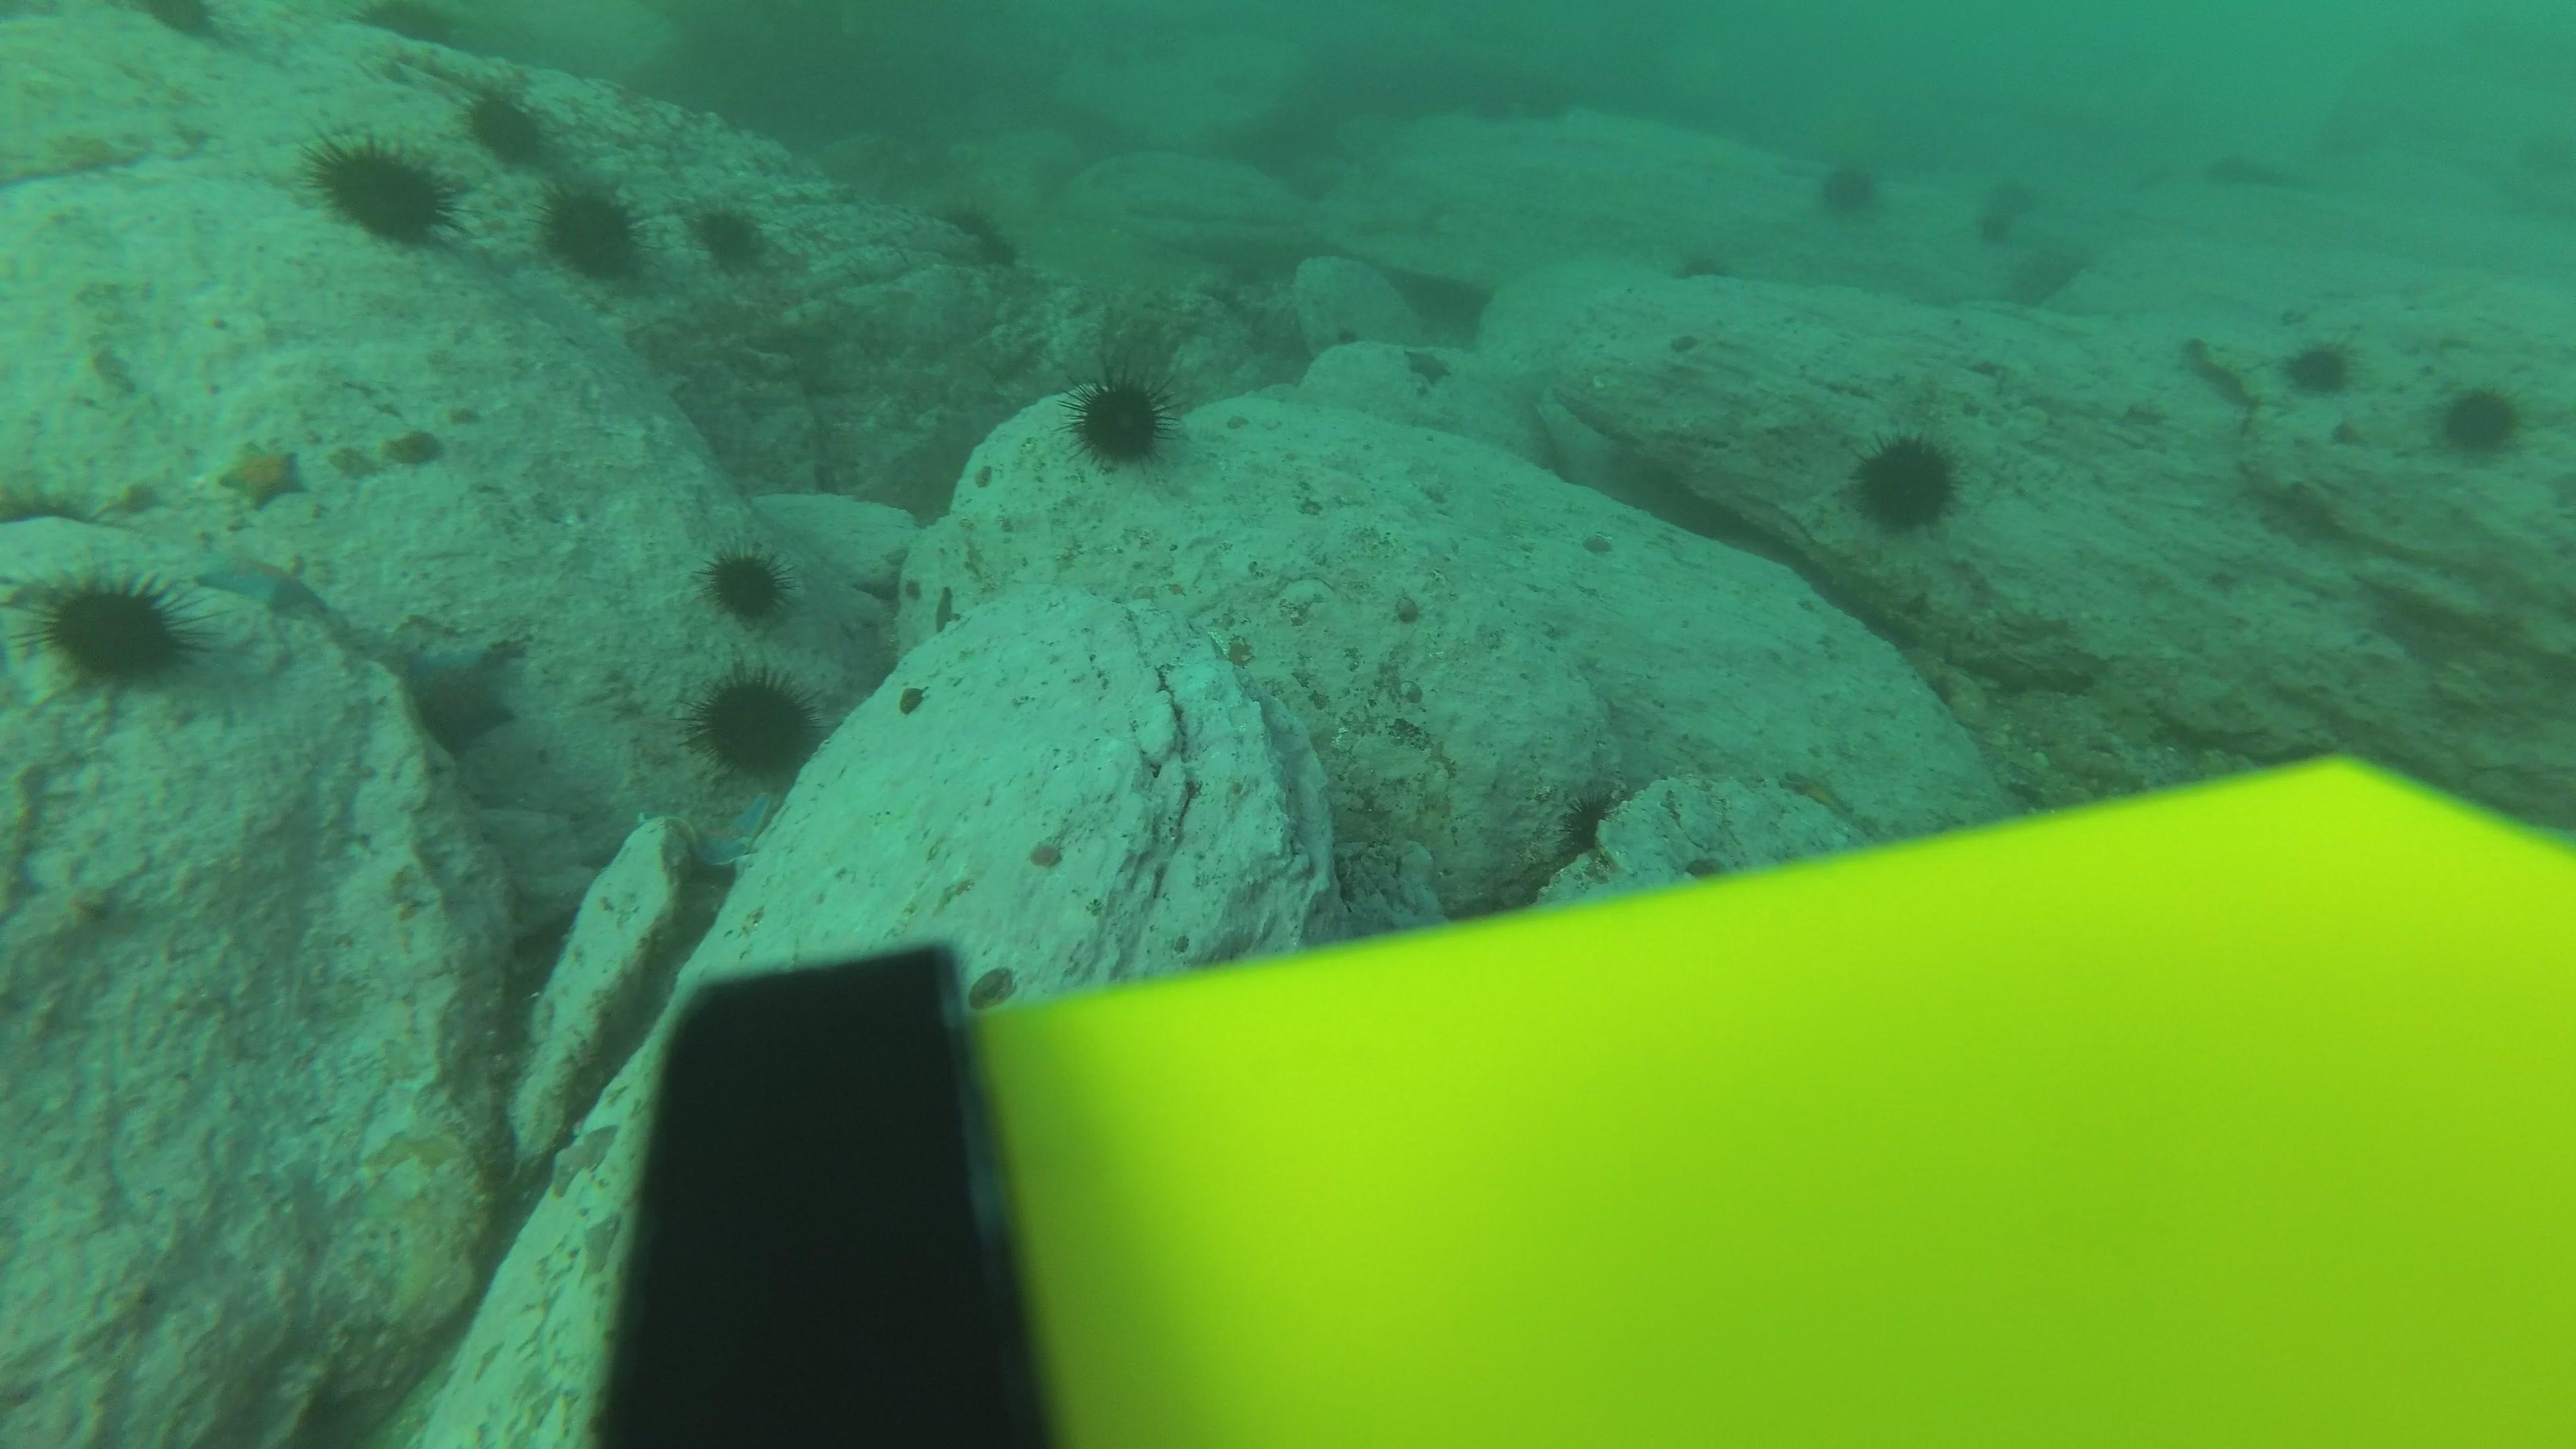echinus: (32, 564, 200, 695), (306, 131, 460, 249), (692, 667, 826, 786), (1845, 428, 1966, 536), (1065, 366, 1180, 472), (538, 179, 649, 283), (699, 540, 794, 628), (460, 80, 556, 166), (2433, 377, 2528, 462), (690, 195, 773, 274), (2281, 333, 2358, 400), (1465, 60, 1537, 127), (1813, 156, 1884, 223), (1670, 241, 1741, 308), (1522, 78, 1592, 145), (1955, 198, 2026, 265), (2199, 124, 2270, 191), (941, 198, 1001, 244), (964, 234, 1024, 280)
starfish: (395, 625, 527, 757), (189, 543, 329, 621), (499, 265, 614, 347), (690, 784, 786, 872), (214, 437, 311, 511), (1778, 761, 1868, 824), (1401, 343, 1454, 391)
